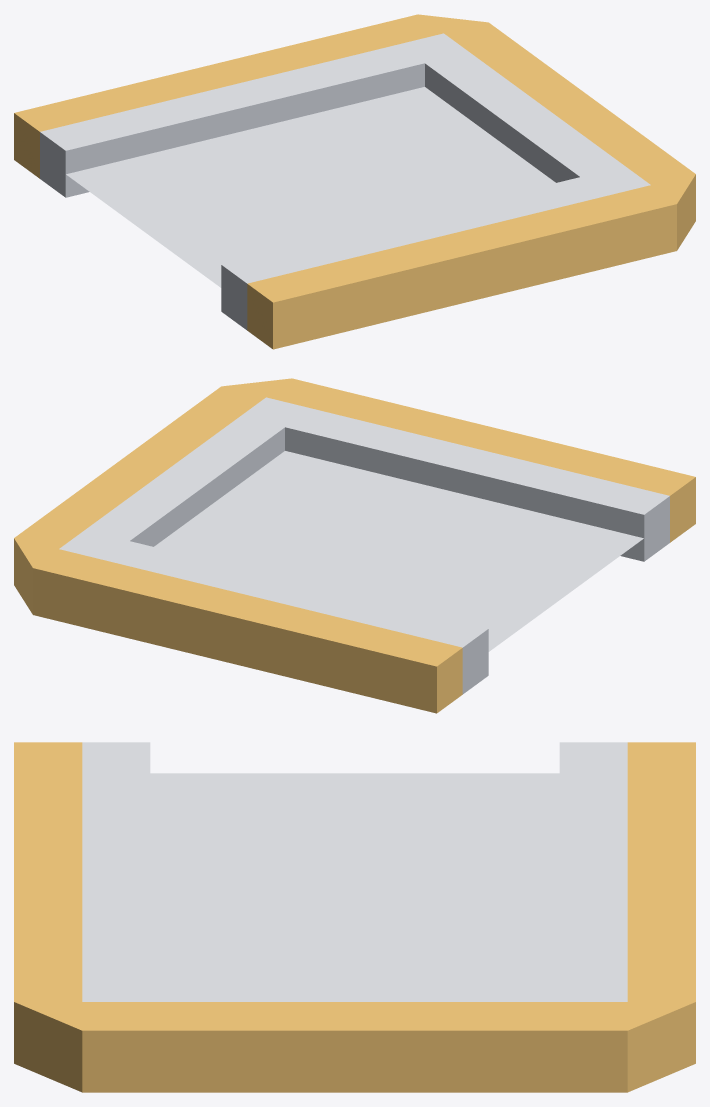
The model's file is platform_end.glb.
The picture shows the model from 3 angles, top to bottom: view 1: azimuth 30°, elevation 25°; view 2: azimuth 150°, elevation 25°; view 3: azimuth 270°, elevation 25°; orthographic projection. The views are drawn at different scales.
Parts seen in each view (by area): view 1: platform_end; view 2: platform_end; view 3: platform_end.
Boxes of the visible parts, left/top/right/bottom form: platform_end: left=14, top=14, right=695, bottom=349; platform_end: left=14, top=378, right=695, bottom=713; platform_end: left=14, top=742, right=695, bottom=1092.
Bounding box in the file's own units: 1.4 × 0.1404 × 1.4.
